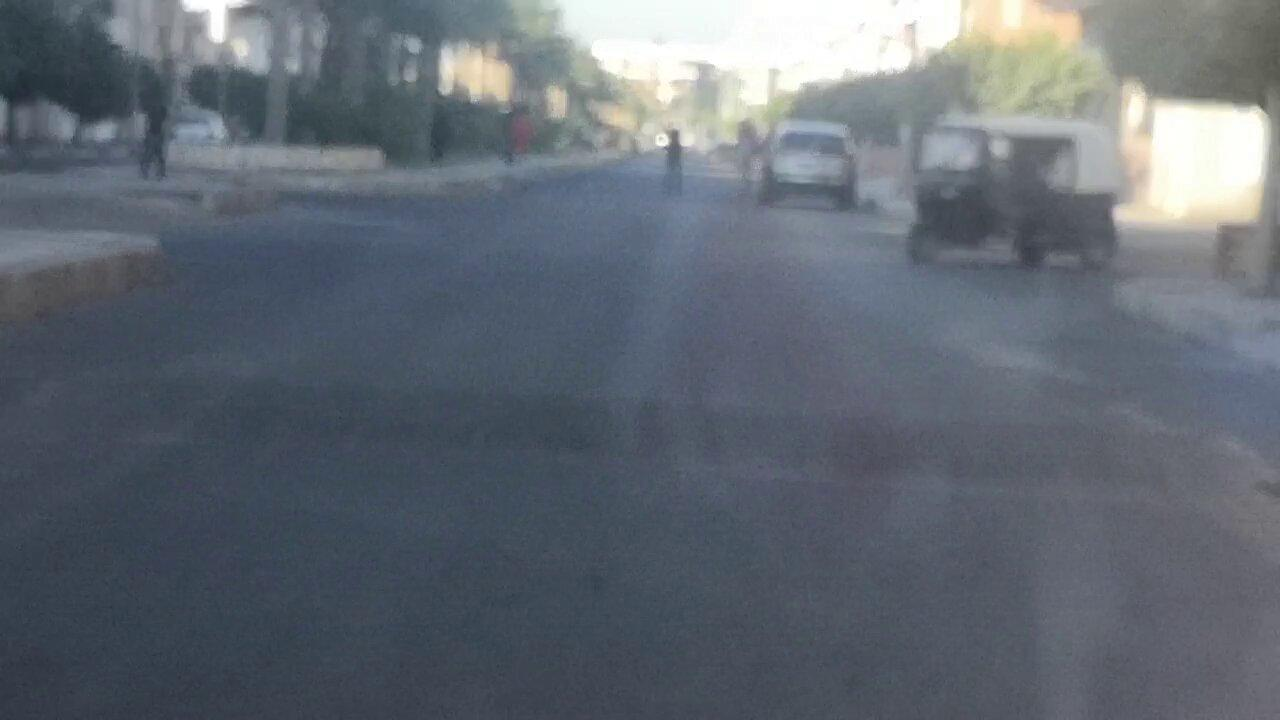Bump: (0, 377, 1255, 503)
